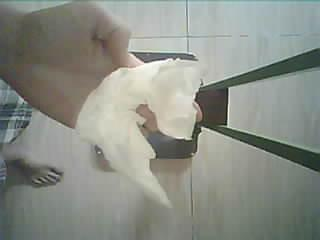paper: (77, 59, 200, 205)
